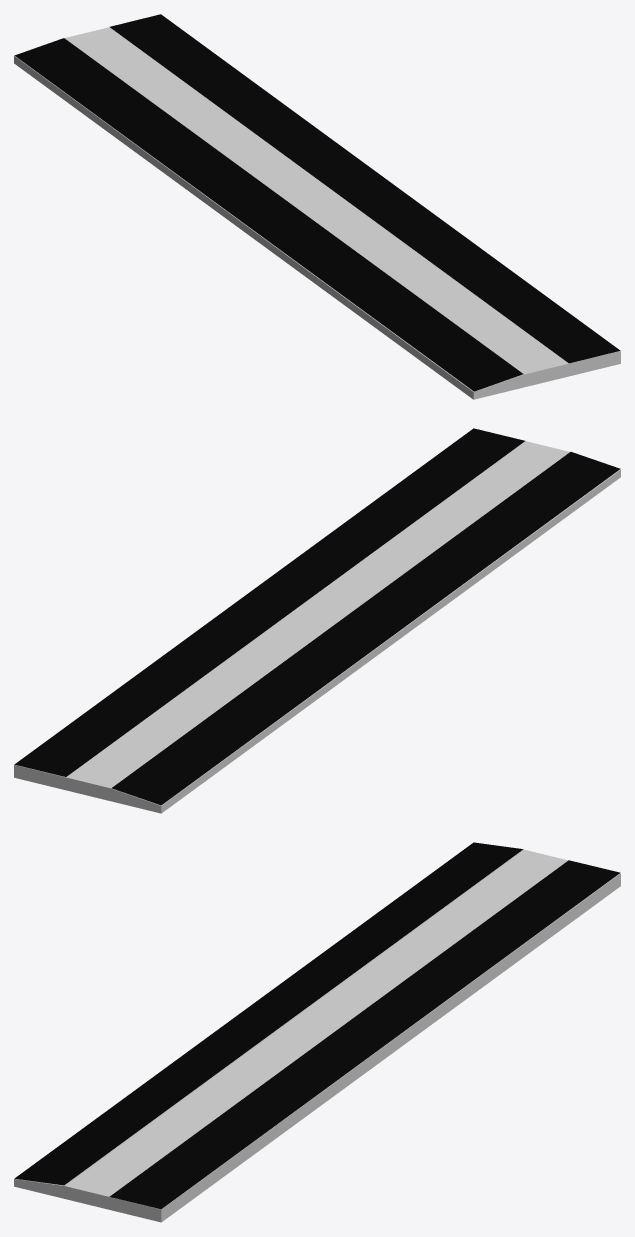
The model's file is ruler.fbx.
The picture shows the model from 3 angles, top to bottom: view 1: azimuth 30°, elevation 25°; view 2: azimuth 150°, elevation 25°; view 3: azimuth 330°, elevation 25°; orthographic projection.
Visible parts, largest first — view 1: Ruler; view 2: Ruler; view 3: Ruler.
Part boxes in pixels (<box>): Ruler: <box>14,14,620,399</box>; Ruler: <box>14,428,620,813</box>; Ruler: <box>14,842,620,1222</box>.
Bounding box in the file's own units: 17.48 × 1.52 × 94.44.
Materials: 2 (1 with a texture image).
